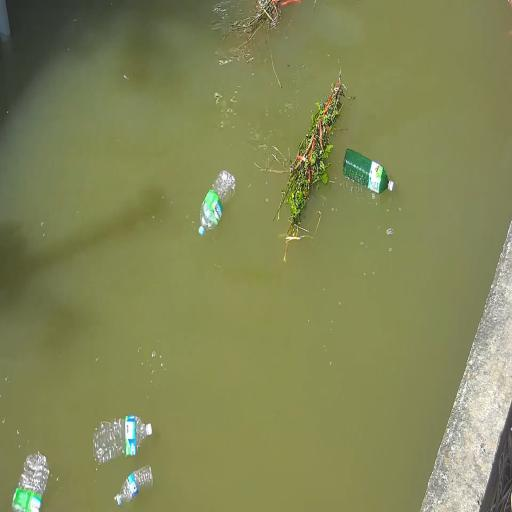plastic: (96, 414, 160, 464), (342, 146, 394, 207), (194, 168, 240, 236), (10, 454, 56, 512), (108, 467, 156, 505)
twig: (264, 80, 356, 238), (234, 0, 286, 50)
